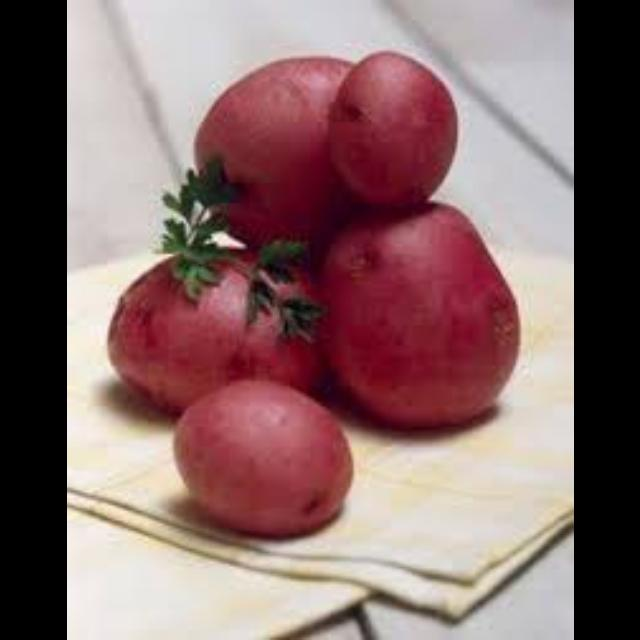Defected potato: (318, 201, 524, 439), (178, 55, 426, 242), (103, 244, 327, 423), (168, 377, 352, 541), (324, 48, 458, 208)
